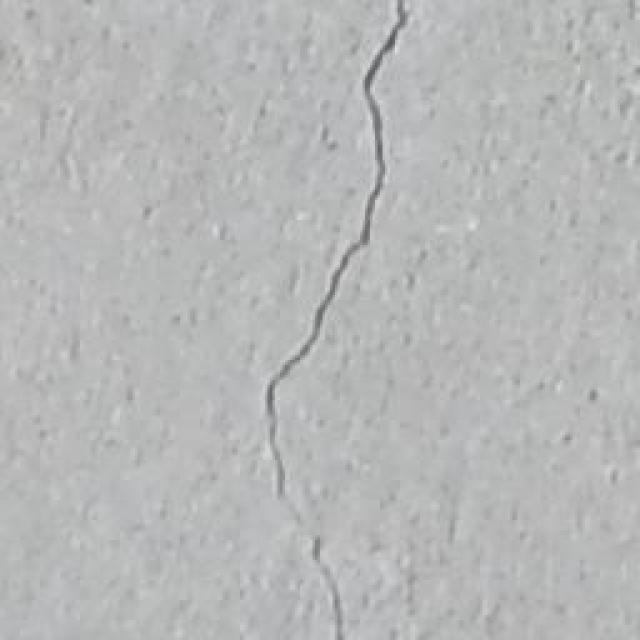concrete-crack: (260, 5, 413, 640)
